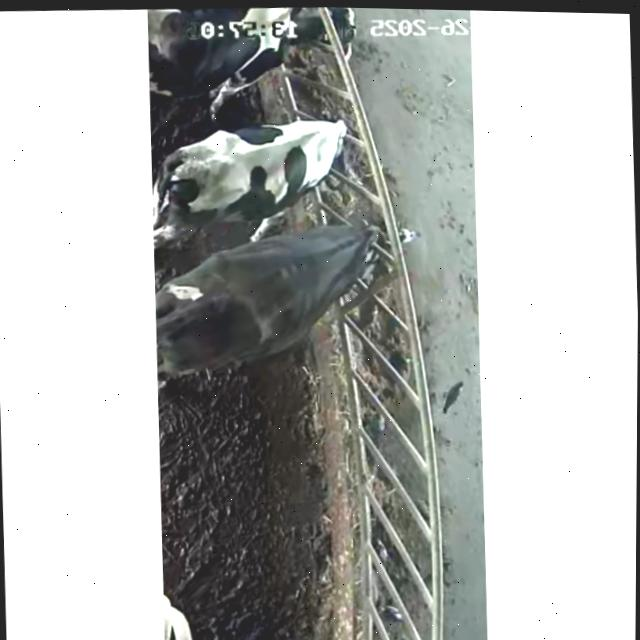eat: (275, 200, 443, 297), (248, 99, 403, 192), (207, 5, 390, 78)
